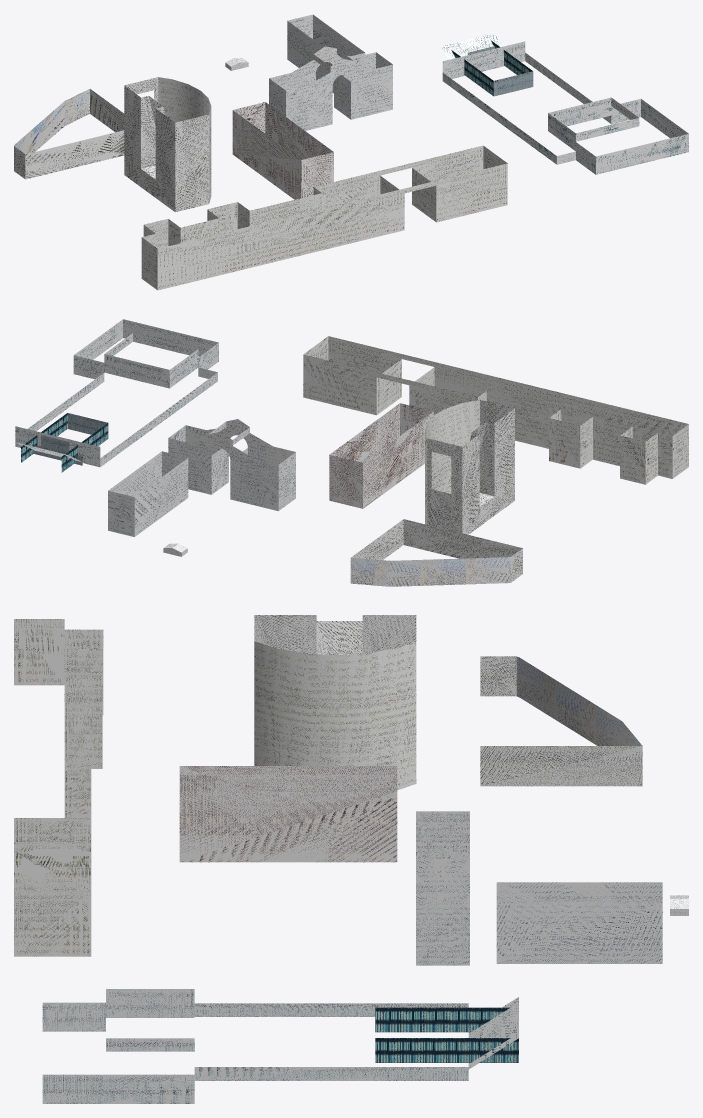
File: colision.obj
3 renders of one model, top to bottom at view 1: azimuth 30°, elevation 25°; view 2: azimuth 150°, elevation 25°; view 3: azimuth 270°, elevation 25°, orthographic. The views are drawn at different scales.
Visible parts, largest first — view 1: SketchUp.003_ID230.002, SketchUp.160_ID1855.002, SketchUp.034_ID560.002, SketchUp.008_ID293.002, SketchUp.006_ID263.002, SketchUp.001_ID200.002, SketchUp.010_ID323.002, SketchUp.035_ID575.002, SketchUp.178_ID2026.002, SketchUp.165_ID1899.001, SketchUp.166_ID1909.002, SketchUp.168_ID1929.002; view 2: SketchUp.003_ID230.002, SketchUp.160_ID1855.002, SketchUp.034_ID560.002, SketchUp.008_ID293.002, SketchUp.006_ID263.002, SketchUp.010_ID323.002, SketchUp.178_ID2026.002, SketchUp.001_ID200.002, SketchUp.035_ID575.002, SketchUp.164_ID1889.002, SketchUp.168_ID1929.002, SketchUp.167_ID1919.002 (+1 smaller); view 3: SketchUp.006_ID263.002, SketchUp.003_ID230.002, SketchUp.035_ID575.002, SketchUp.160_ID1855.002, SketchUp.010_ID323.002, SketchUp.008_ID293.002, SketchUp.001_ID200.002, SketchUp.034_ID560.002, SketchUp.178_ID2026.002, SketchUp.167_ID1919.002, SketchUp.168_ID1929.002, SketchUp.165_ID1899.001.
Part boxes in pixels (bbox=[...]): SketchUp.003_ID230.002: bbox=[141, 145, 507, 290]; SketchUp.160_ID1855.002: bbox=[442, 41, 688, 174]; SketchUp.034_ID560.002: bbox=[124, 77, 208, 212]; SketchUp.008_ID293.002: bbox=[269, 46, 392, 130]; SketchUp.006_ID263.002: bbox=[232, 102, 333, 199]; SketchUp.001_ID200.002: bbox=[14, 89, 124, 179]; SketchUp.010_ID323.002: bbox=[287, 14, 365, 93]; SketchUp.035_ID575.002: bbox=[158, 77, 211, 202]; SketchUp.178_ID2026.002: bbox=[14, 89, 89, 154]; SketchUp.165_ID1899.001: bbox=[441, 33, 501, 59]; SketchUp.166_ID1909.002: bbox=[493, 71, 533, 96]; SketchUp.168_ID1929.002: bbox=[451, 50, 493, 95]; SketchUp.003_ID230.002: bbox=[303, 336, 688, 484]; SketchUp.160_ID1855.002: bbox=[15, 319, 218, 467]; SketchUp.034_ID560.002: bbox=[427, 400, 514, 534]; SketchUp.008_ID293.002: bbox=[168, 419, 295, 511]; SketchUp.006_ID263.002: bbox=[329, 403, 433, 508]; SketchUp.010_ID323.002: bbox=[108, 451, 188, 536]; SketchUp.178_ID2026.002: bbox=[350, 557, 510, 586]; SketchUp.001_ID200.002: bbox=[351, 519, 522, 582]; SketchUp.035_ID575.002: bbox=[425, 400, 479, 524]; SketchUp.164_ID1889.002: bbox=[34, 435, 82, 465]; SketchUp.168_ID1929.002: bbox=[61, 423, 108, 472]; SketchUp.167_ID1919.002: bbox=[21, 413, 67, 462]; SketchUp.006_ID263.002: bbox=[179, 766, 397, 862]; SketchUp.003_ID230.002: bbox=[14, 619, 103, 956]; SketchUp.035_ID575.002: bbox=[254, 641, 416, 790]; SketchUp.160_ID1855.002: bbox=[42, 989, 468, 1103]; SketchUp.010_ID323.002: bbox=[496, 882, 662, 963]; SketchUp.008_ID293.002: bbox=[416, 811, 469, 965]; SketchUp.001_ID200.002: bbox=[480, 656, 642, 786]; SketchUp.034_ID560.002: bbox=[254, 615, 416, 655]; SketchUp.178_ID2026.002: bbox=[516, 656, 642, 745]; SketchUp.167_ID1919.002: bbox=[375, 1038, 518, 1062]; SketchUp.168_ID1929.002: bbox=[375, 1007, 509, 1032]; SketchUp.165_ID1899.001: bbox=[468, 997, 518, 1069].
Bounding box in the file's own units: 337 × 53.47 × 230.
10 materials, 7 textured.
